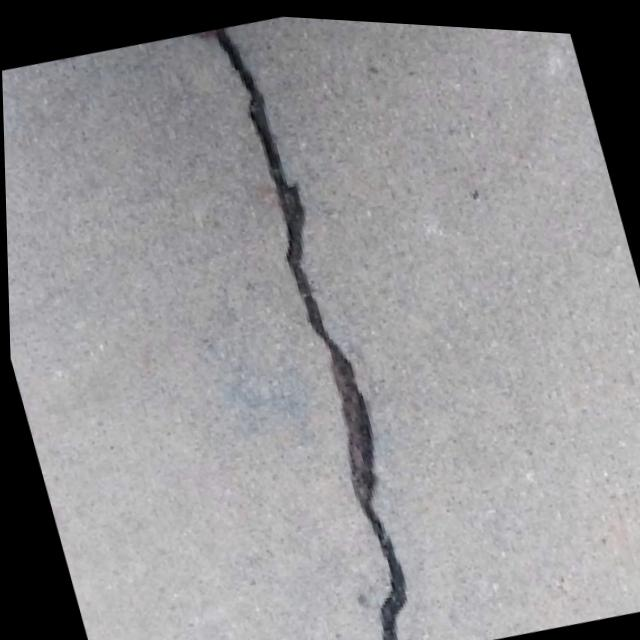Crack: (177, 16, 456, 640)
